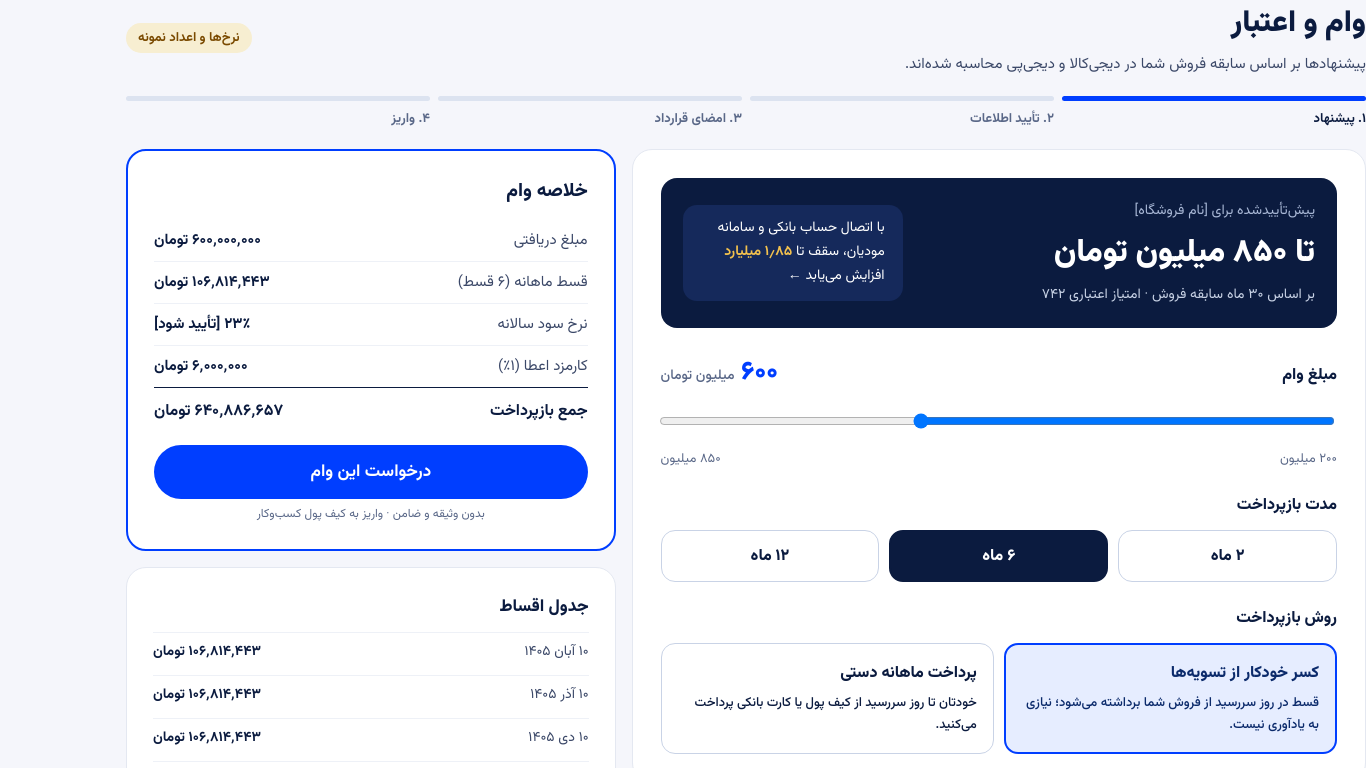
Test: LoanPage › walks through offer → review → sign → done
Step 1. Click the button "۱۲ ماه" → (770, 556), box 661,530 -> 879,582
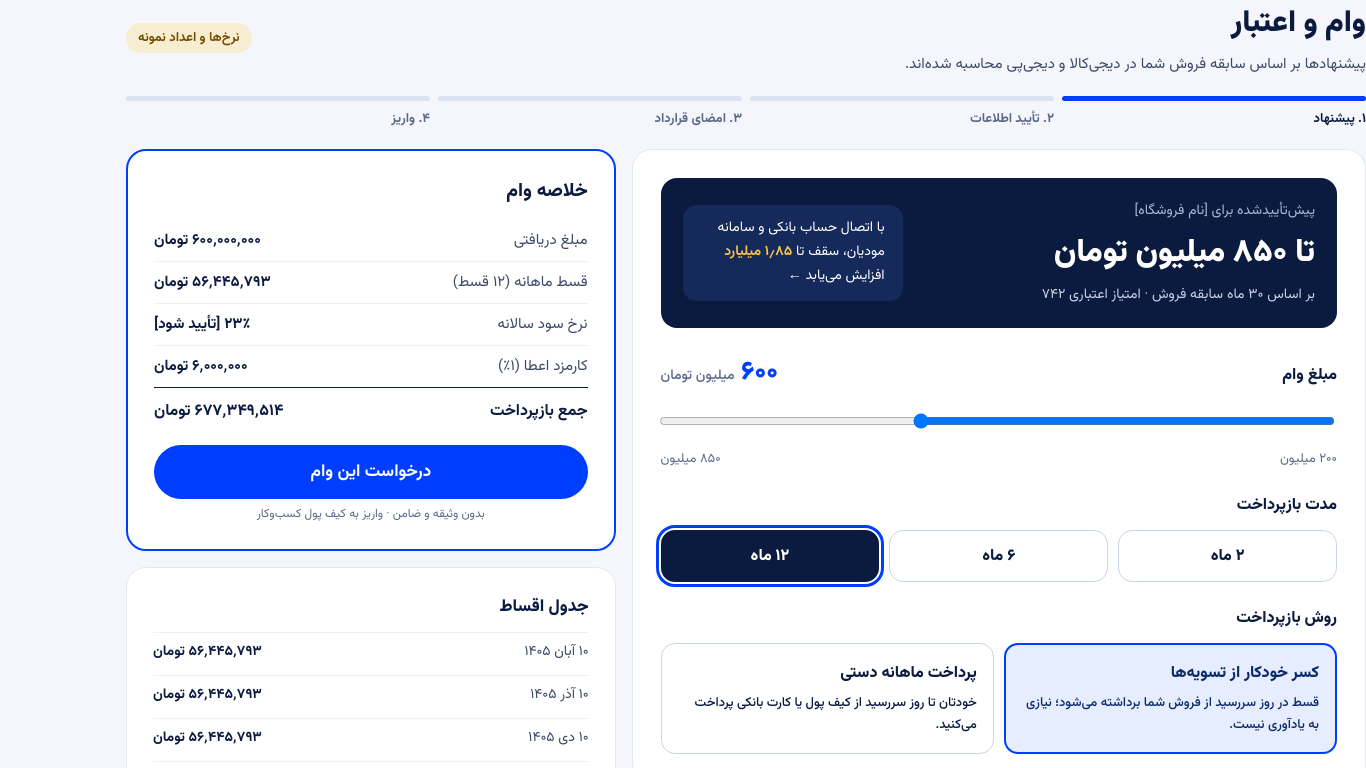
Step 2. Click the button "درخواست این وام" → (371, 472), box 154,445 -> 588,499
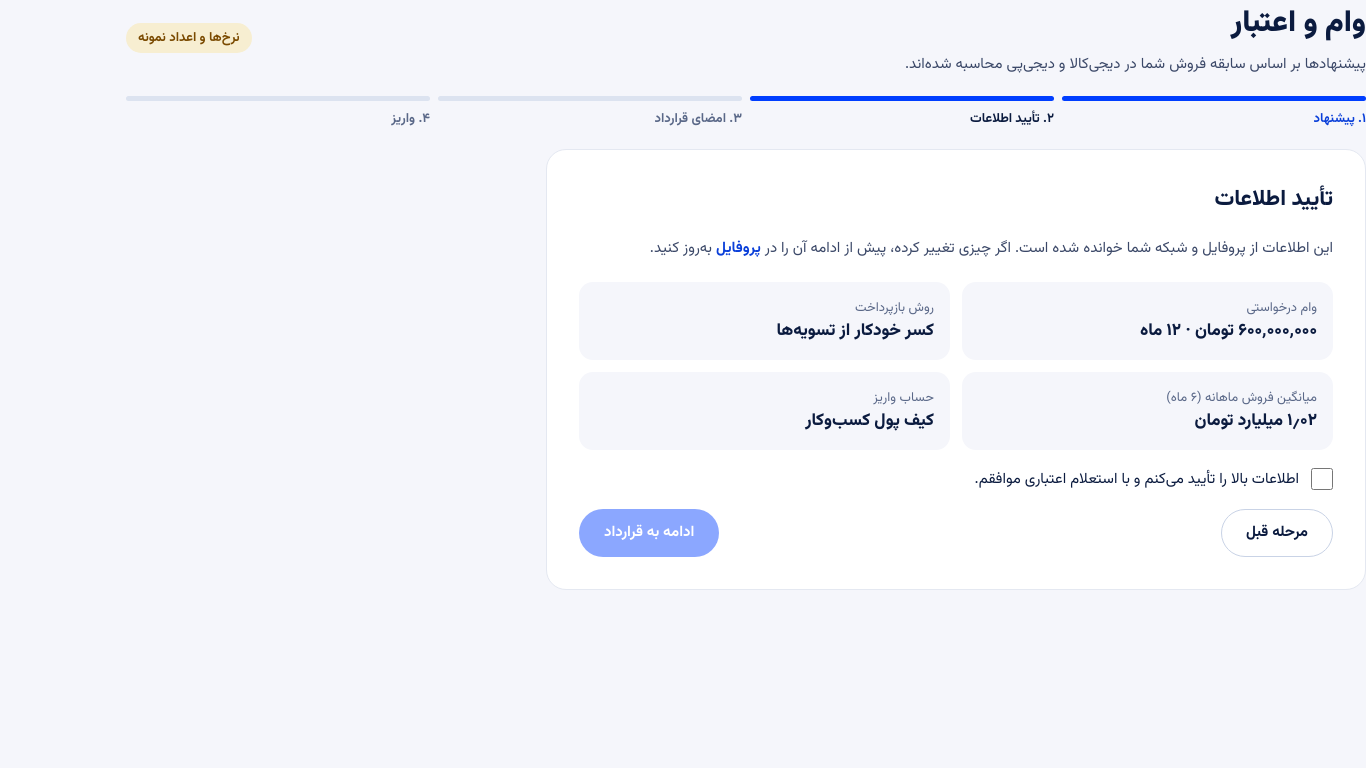
Result: the button "ادامه به قرارداد" is disabled at 579,508 -> 719,556
Step 3. Click the checkbox → (1322, 479), box 1311,468 -> 1333,490
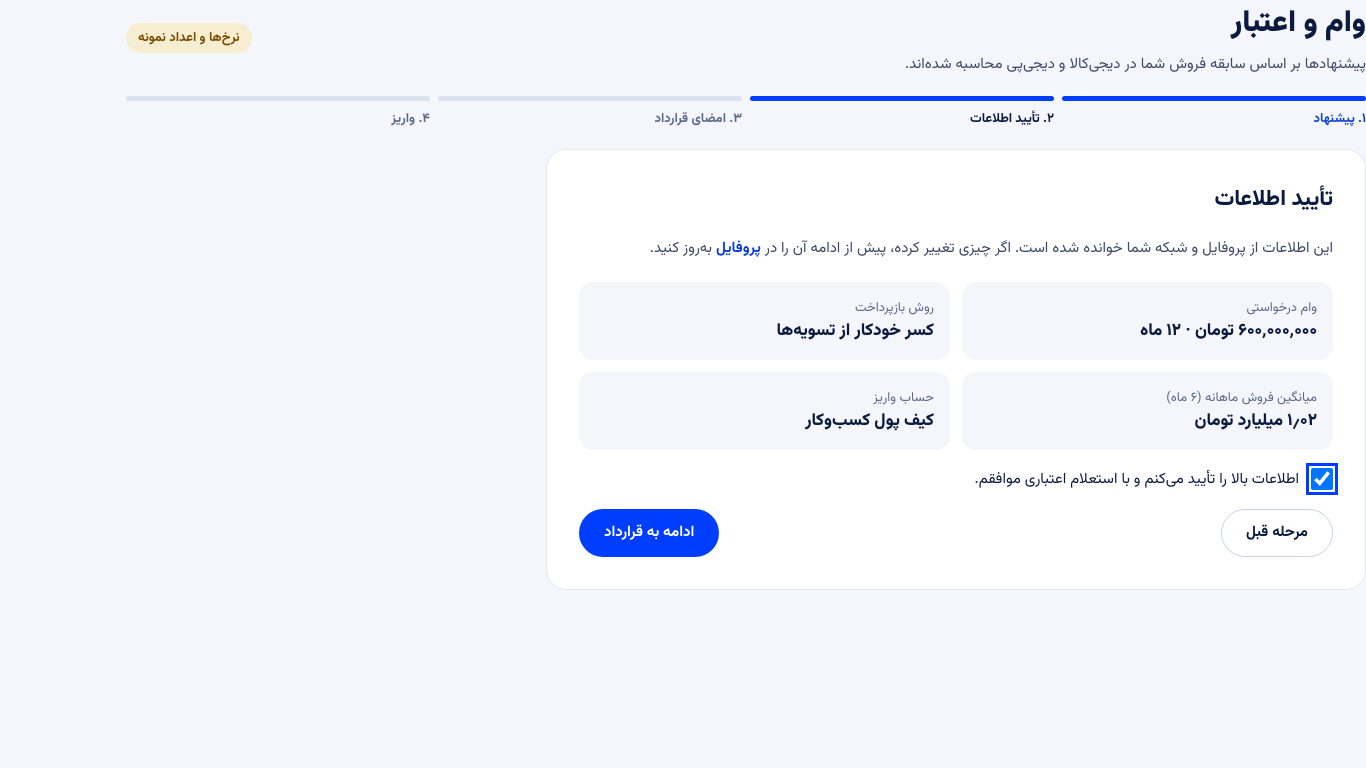
Step 4. Click the button "ادامه به قرارداد" → (649, 532), box 579,508 -> 719,556
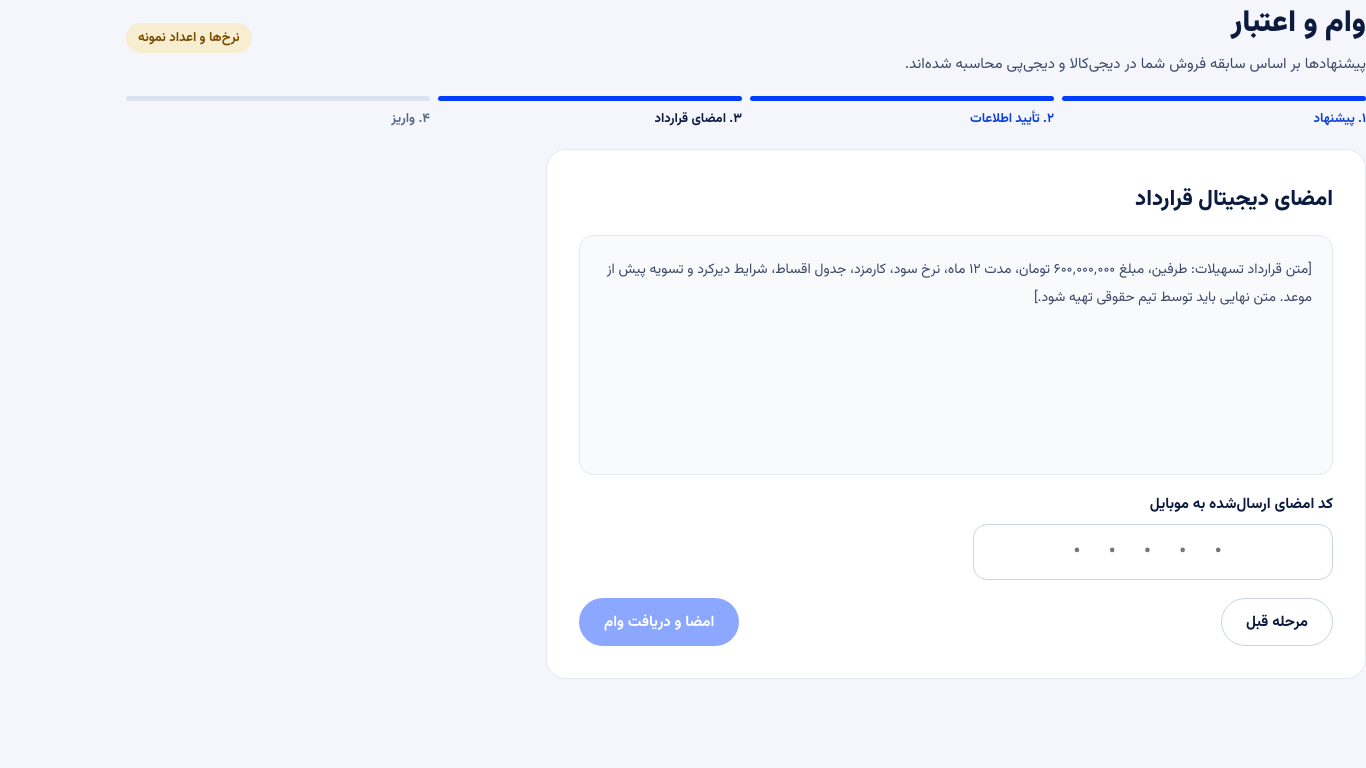
Result: the button "امضا و دریافت وام" is disabled at 579,598 -> 739,646
Step 5. Type "۱۲۳۴۵" into the field labelled "کد امضای ارسال‌شده به موبایل" → (1153, 552), box 973,524 -> 1333,580
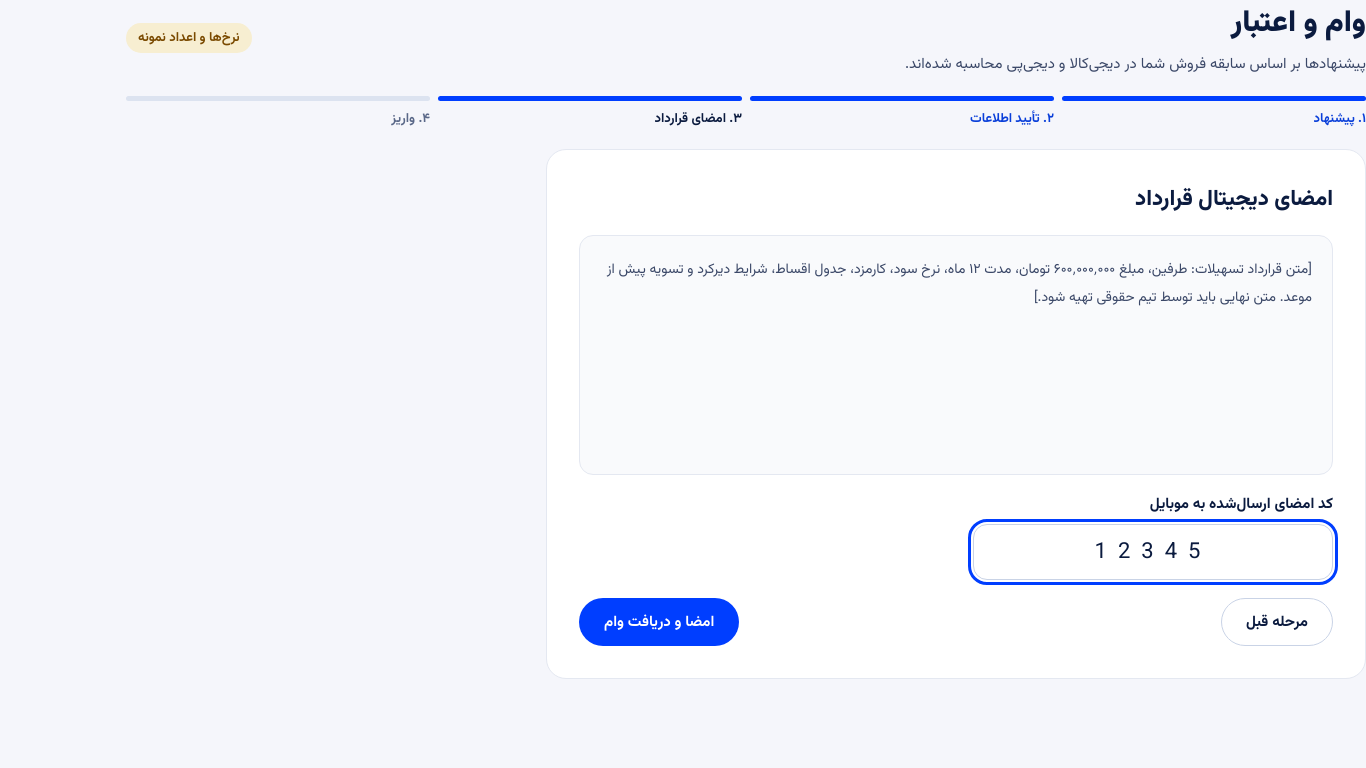
Result: the button "امضا و دریافت وام" is enabled
Step 6. Click the button "امضا و دریافت وام" → (659, 622), box 579,598 -> 739,646
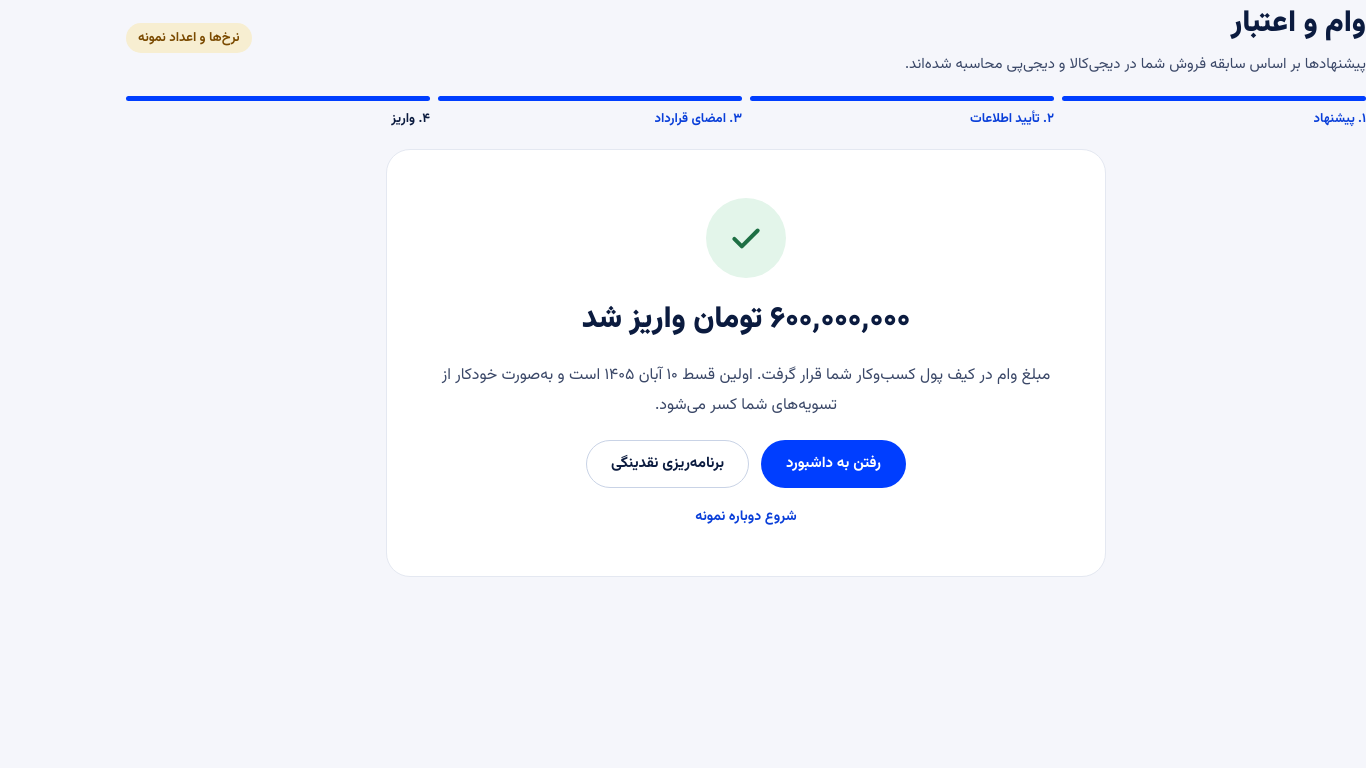
Result: the heading "۶۰۰٬۰۰۰٬۰۰۰ تومان واریز شد" is shown at 582,296 -> 910,343
